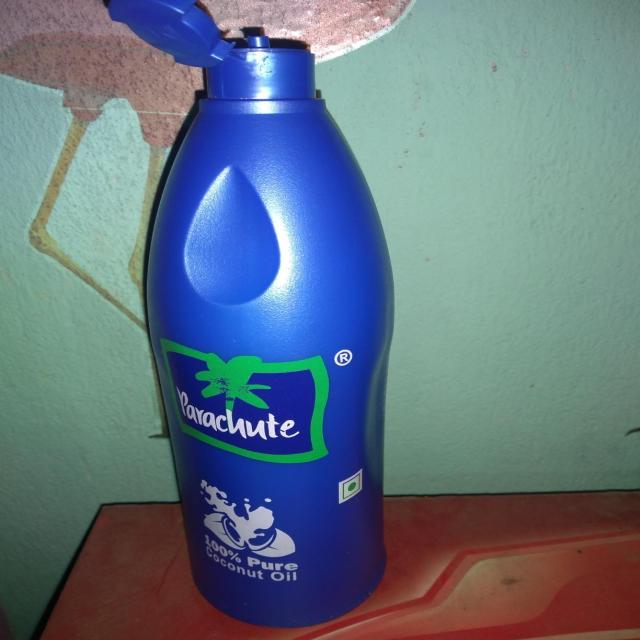parachute_oil: (128, 3, 407, 629)
